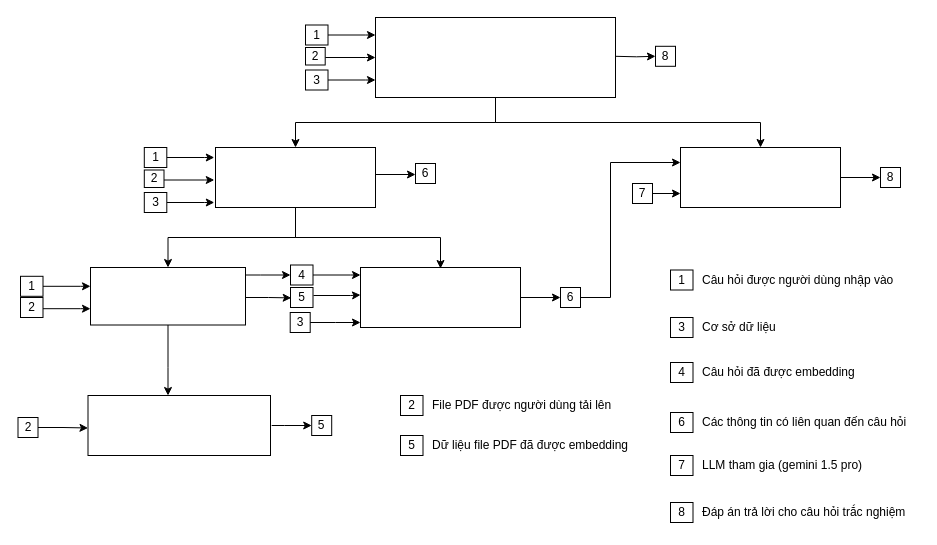
The diagram is 937 pixels wide and 545 high, and some of its shapes have lost their labels. Here are the shapes that lost their labels. From the top down, the centre of each, then its label:
At (495,57): "Chatbot hỏi đáp các câu hỏi liên quan đến các môn chính trị cho sinh viên ĐHQG".
At (295,177): "Hệ thống nhận input và tìm kiếm thông tin".
At (760,177): "Chatbot đưa ra câu trả lời".
At (168,295): "Tiền xử lí câu hỏi".
At (440,297): "Hệ thống tìm kiếm thông tin".
At (178,425): "Hệ thống xử lí file pdf (nếu có)".
